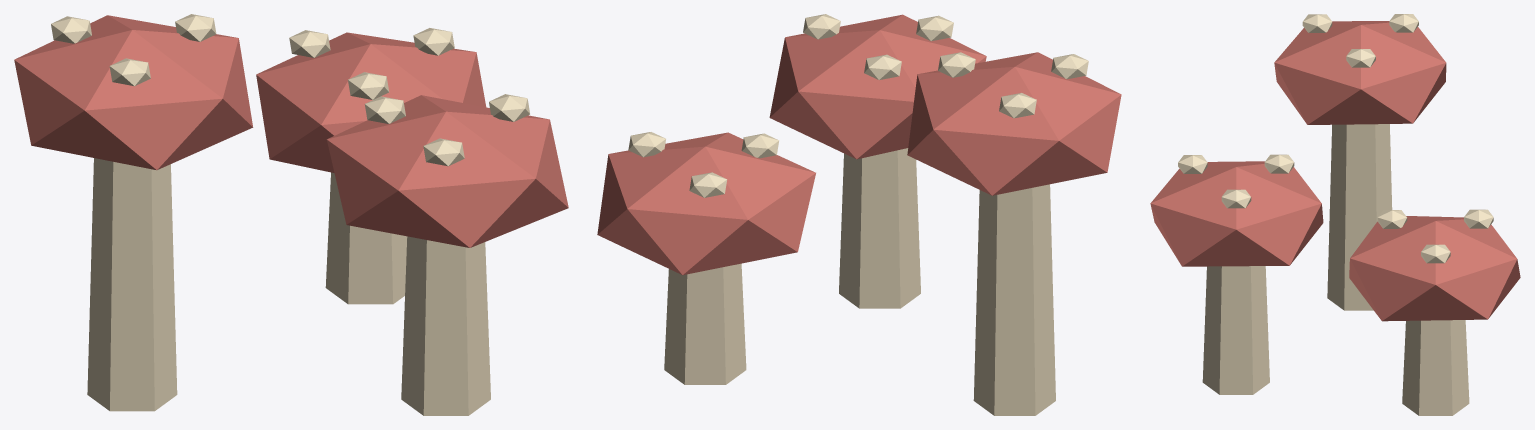
File: enfeite_cogumelos.glb
3 renders of one model, left to right at view 1: azimuth 30°, elevation 25°; view 2: azimuth 150°, elevation 25°; view 3: azimuth 270°, elevation 25°, orthographic. The views are drawn at different scales.
Parts seen in each view (by area): view 1: neve_enfeite_cogumelos; view 2: neve_enfeite_cogumelos; view 3: neve_enfeite_cogumelos.
Boxes of the visible parts, bbox=[...] form: neve_enfeite_cogumelos: bbox=[14, 14, 568, 415]; neve_enfeite_cogumelos: bbox=[597, 14, 1121, 415]; neve_enfeite_cogumelos: bbox=[1150, 14, 1520, 415].
Bounding box in the file's own units: 0.3436 × 0.242 × 0.297.
